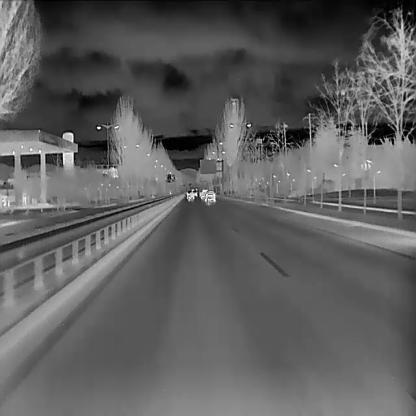car: (204, 188, 215, 202), (199, 187, 208, 198), (185, 189, 194, 199), (192, 188, 197, 196)
